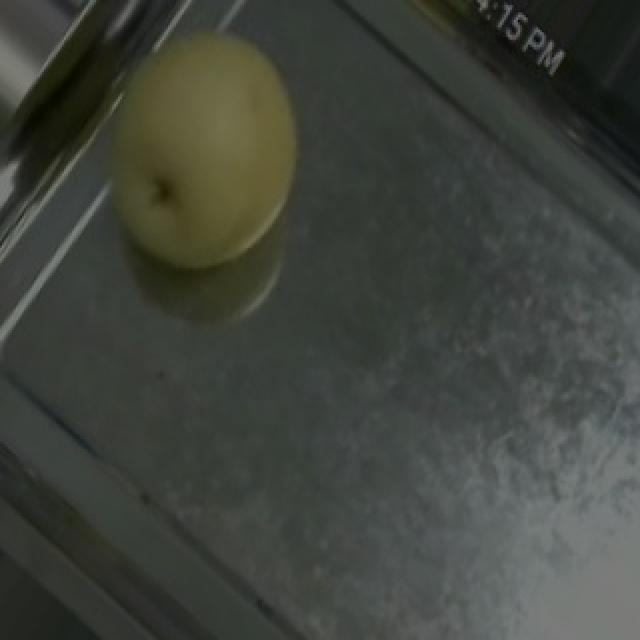Fruit: (58, 0, 350, 315)
